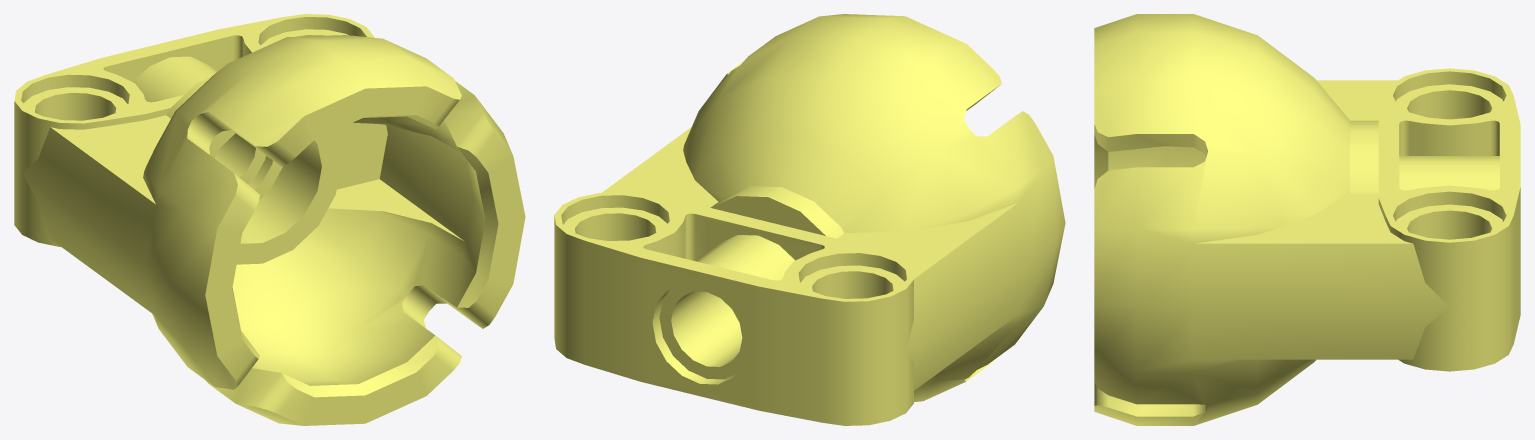
3 views of the same model, side by side, from view 1: azimuth 30°, elevation 25°; view 2: azimuth 150°, elevation 25°; view 3: azimuth 270°, elevation 25° (orthographic). The views are drawn at different scales.
Visible parts, largest first — view 1: 92911.dat; view 2: 92911.dat; view 3: 92911.dat.
Boxes of the visible parts, bbox=[...] form: 92911.dat: bbox=[14, 14, 525, 425]; 92911.dat: bbox=[554, 14, 1065, 425]; 92911.dat: bbox=[1094, 14, 1520, 425].
Bounding box in the file's own units: 0.0232 × 0.0232 × 0.024.
